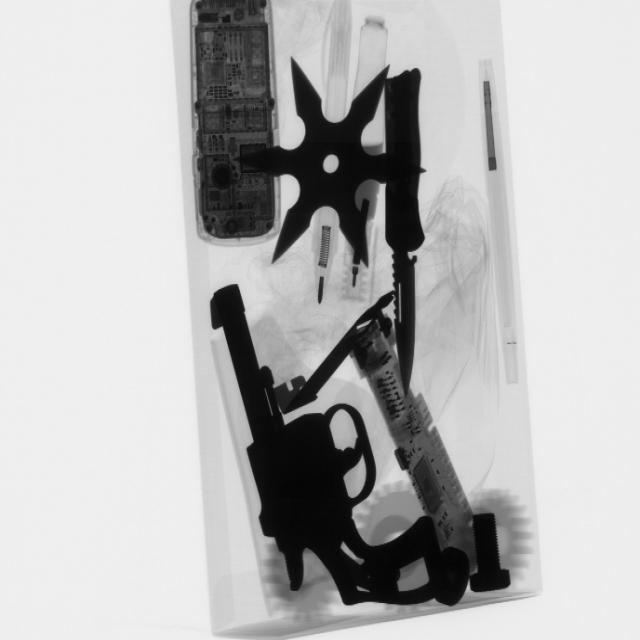GUN: (201, 284, 454, 622)
KNIFE: (375, 65, 442, 383)
SHURIKEN: (248, 58, 400, 277)
